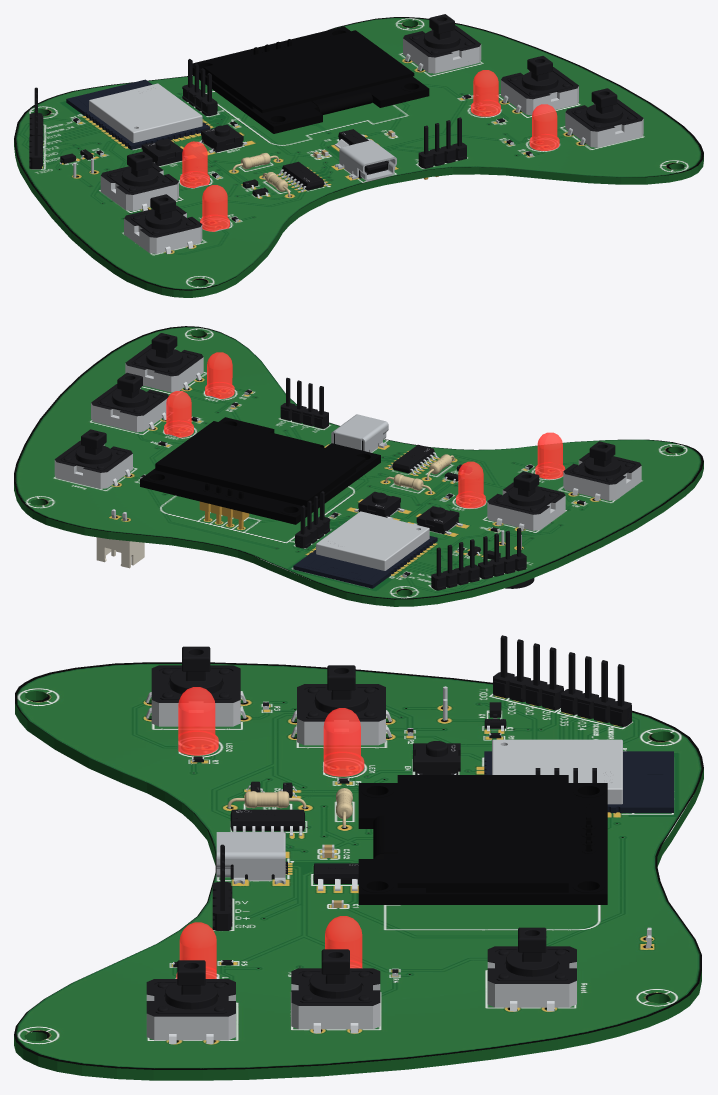
3 views of the same model, one above another, from view 1: azimuth 30°, elevation 25°; view 2: azimuth 150°, elevation 25°; view 3: azimuth 270°, elevation 25° (orthographic). The views are drawn at different scales.
Parts seen in each view (by area): view 1: Board-mesh, OLED1-mesh, U4-mesh, KEY4-mesh, KEY2-mesh, Reset-mesh, KEY3-mesh, KEY1-mesh, USB1-mesh, H5-mesh, LED4-mesh, LED3-mesh (+7 smaller); view 2: Board-mesh, OLED1-mesh, U4-mesh, KEY2-mesh, KEY1-mesh, Reset-mesh, KEY3-mesh, KEY4-mesh, USB1-mesh, H2-mesh, H5-mesh, H3-mesh (+9 smaller); view 3: Board-mesh, OLED1-mesh, U4-mesh, KEY3-mesh, Reset-mesh, KEY4-mesh, KEY1-mesh, KEY2-mesh, USB1-mesh, H2-mesh, H3-mesh, LED1-mesh (+8 smaller).
Part boxes in pixels (left/top/right/bottom): Board-mesh: left=14, top=17, right=703, bottom=297; OLED1-mesh: left=192, top=26, right=429, bottom=133; U4-mesh: left=66, top=79, right=210, bottom=149; KEY4-mesh: left=565, top=88, right=643, bottom=147; KEY2-mesh: left=124, top=194, right=202, bottom=253; Reset-mesh: left=403, top=14, right=481, bottom=73; KEY3-mesh: left=501, top=56, right=578, bottom=115; KEY1-mesh: left=100, top=151, right=178, bottom=211; USB1-mesh: left=335, top=139, right=396, bottom=181; H5-mesh: left=418, top=117, right=466, bottom=179; LED4-mesh: left=529, top=104, right=559, bottom=150; LED3-mesh: left=471, top=70, right=500, bottom=116; Board-mesh: left=14, top=326, right=703, bottom=606; OLED1-mesh: left=140, top=417, right=380, bottom=524; U4-mesh: left=293, top=511, right=437, bottom=588; KEY2-mesh: left=563, top=441, right=641, bottom=500; KEY1-mesh: left=487, top=471, right=565, bottom=530; Reset-mesh: left=54, top=429, right=132, bottom=488; KEY3-mesh: left=91, top=372, right=168, bottom=432; KEY4-mesh: left=125, top=333, right=203, bottom=392; USB1-mesh: left=327, top=414, right=388, bottom=452; H2-mesh: left=431, top=539, right=479, bottom=590; H5-mesh: left=280, top=377, right=328, bottom=428; H3-mesh: left=478, top=528, right=526, bottom=579; Board-mesh: left=14, top=662, right=703, bottom=1080; OLED1-mesh: left=358, top=775, right=607, bottom=904; U4-mesh: left=484, top=739, right=673, bottom=813; KEY3-mesh: left=291, top=949, right=380, bottom=1033; Reset-mesh: left=487, top=927, right=576, bottom=1011; KEY4-mesh: left=146, top=960, right=235, bottom=1044; KEY1-mesh: left=291, top=665, right=391, bottom=745; KEY2-mesh: left=145, top=646, right=246, bottom=726; USB1-mesh: left=216, top=832, right=285, bottom=884; H2-mesh: left=561, top=652, right=631, bottom=726; H3-mesh: left=493, top=635, right=563, bottom=710; LED1-mesh: left=323, top=708, right=364, bottom=776.
Bounding box in the file's own units: 0.1297 × 0.0175 × 0.0928.
15 materials, 2 textured.
